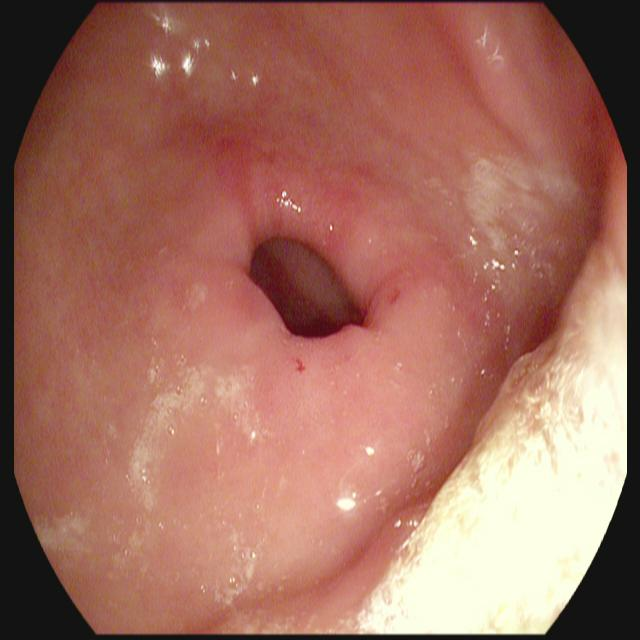normal-pylorus: (154, 90, 394, 294), (458, 126, 612, 321)
